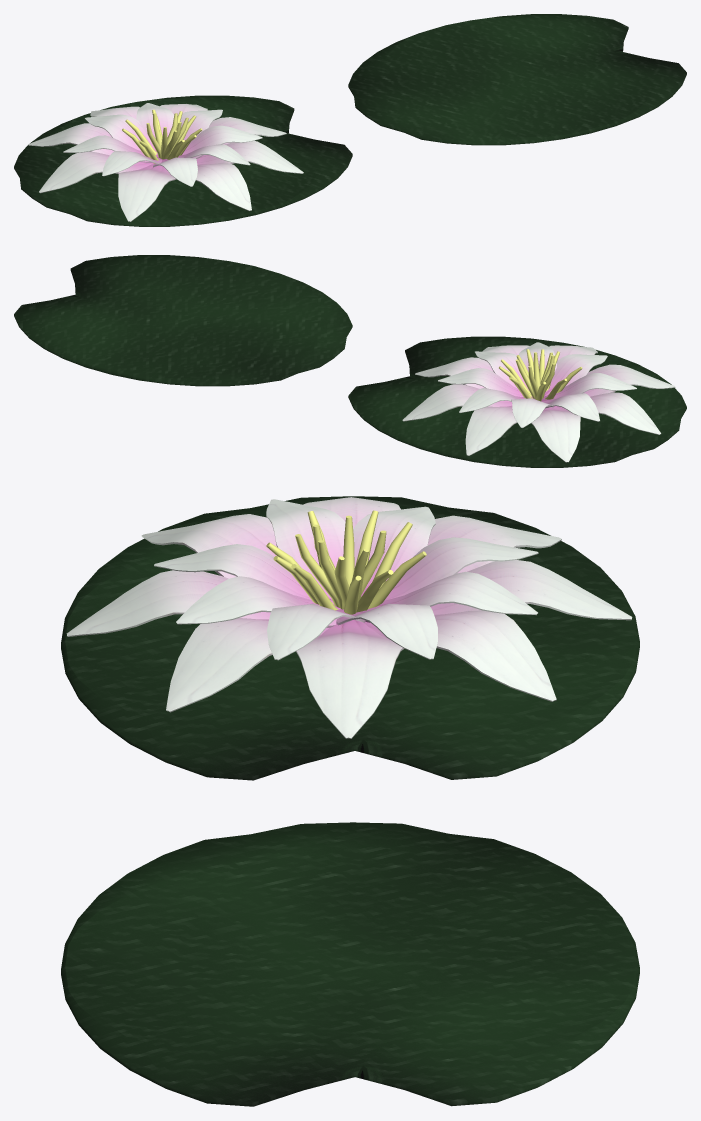
The model's file is Waterlelie.FBX.
3 renders of one model, top to bottom at view 1: azimuth 30°, elevation 25°; view 2: azimuth 150°, elevation 25°; view 3: azimuth 270°, elevation 25°, orthographic. The views are drawn at different scales.
Visible parts, largest first — view 1: Cylinder014, Cylinder013, Blad (×15), Bloem; view 2: Cylinder014, Cylinder013, Blad (×15), Bloem; view 3: Cylinder014, Cylinder013, Blad (×16), Bloem.
Boxes of the visible parts, <box> form: Cylinder014: <box>348,14,686,145</box>; Cylinder013: <box>14,95,352,226</box>; Blad (×15): <box>28,103,303,221</box>; Bloem: <box>122,109,202,163</box>; Cylinder014: <box>14,255,352,386</box>; Cylinder013: <box>348,336,686,467</box>; Blad (×15): <box>402,342,675,462</box>; Bloem: <box>499,349,582,401</box>; Cylinder014: <box>61,822,639,1106</box>; Cylinder013: <box>61,496,639,780</box>; Blad (×16): <box>66,497,632,738</box>; Bloem: <box>266,510,426,614</box>.
Size of the model in its own units: 122 by 8.96 by 49.42.
3 materials, 2 textured.
